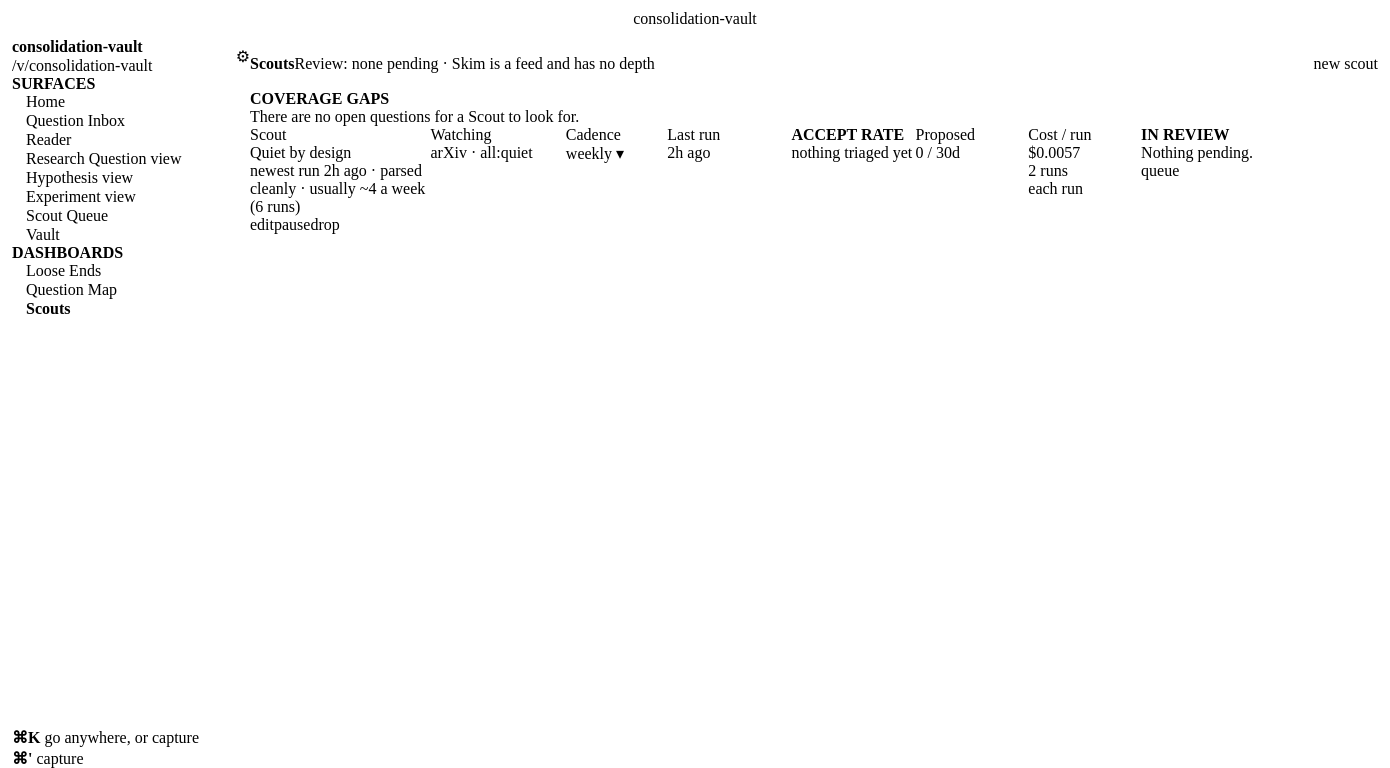
Test case: the runs behind a row › says why on a polite line when the runs cannot be read, and not that there were none
The image size is (1390, 768).
Click the button with aria-label "Quiet by design: each run".
click(1056, 189)  # box [1028,180,1083,198]
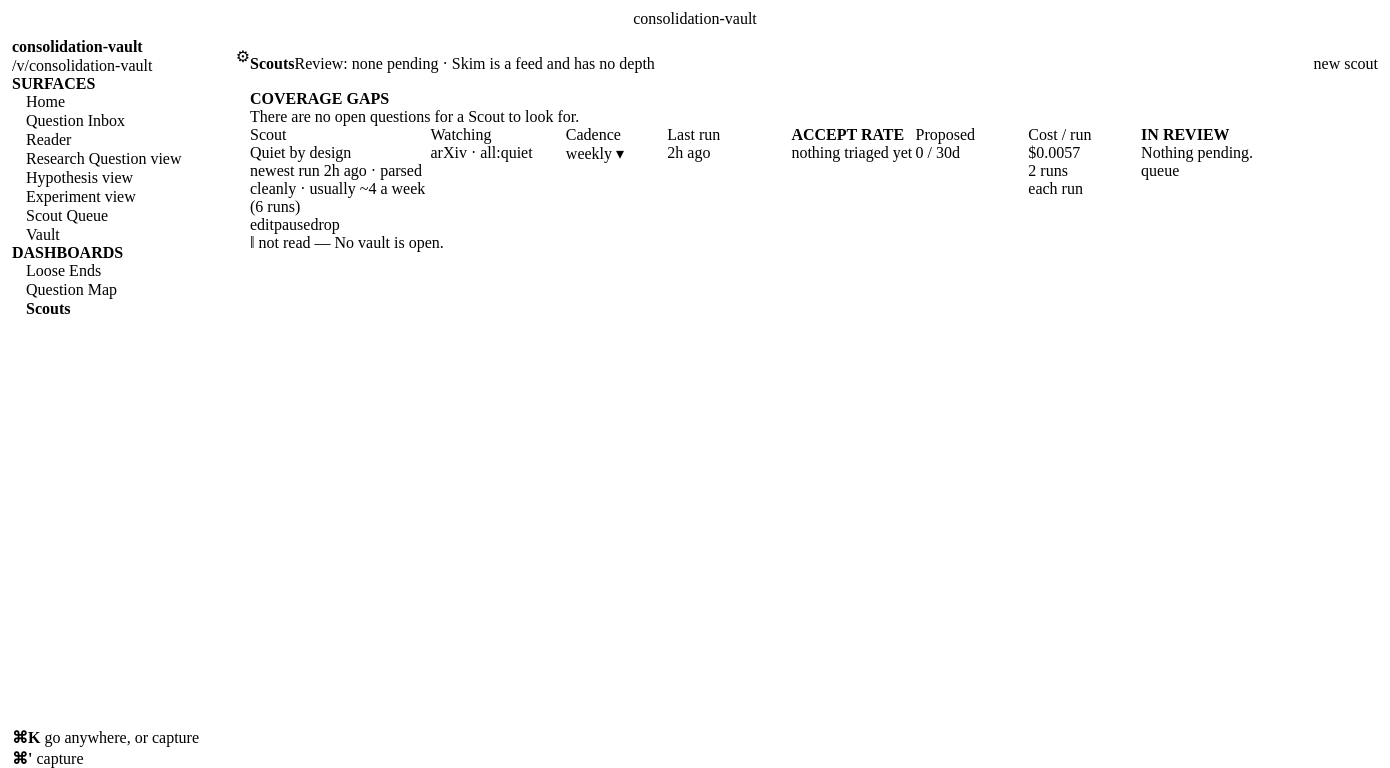
Check: the text "‖ not read — No vault is open." is shown, box [250,234,444,251]
